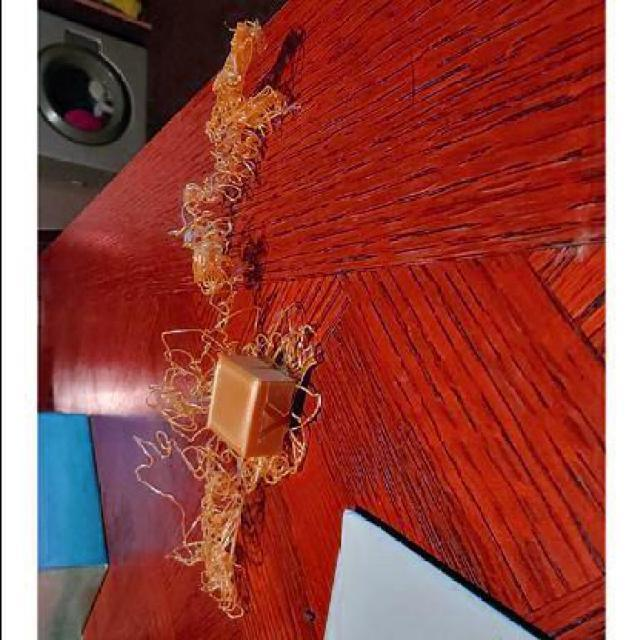spaghetti: (162, 15, 305, 298), (129, 295, 329, 492), (160, 488, 248, 625)
